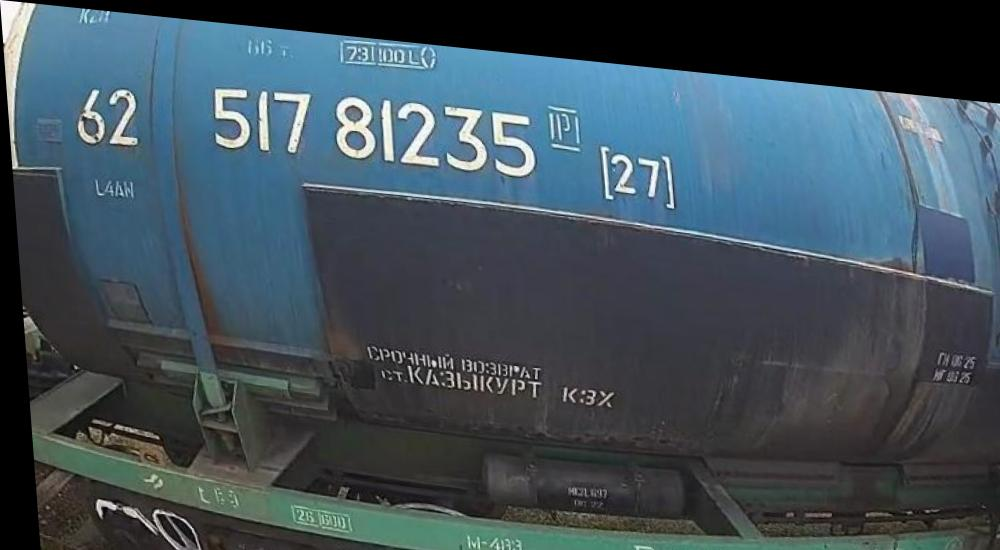Wagon-number: (204, 74, 542, 172)
